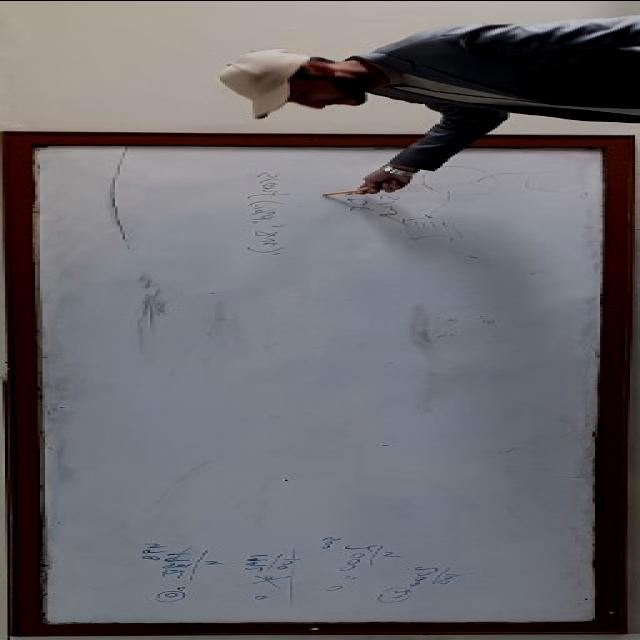Instructor: (200, 20, 640, 124)
White-board: (19, 139, 622, 631)
